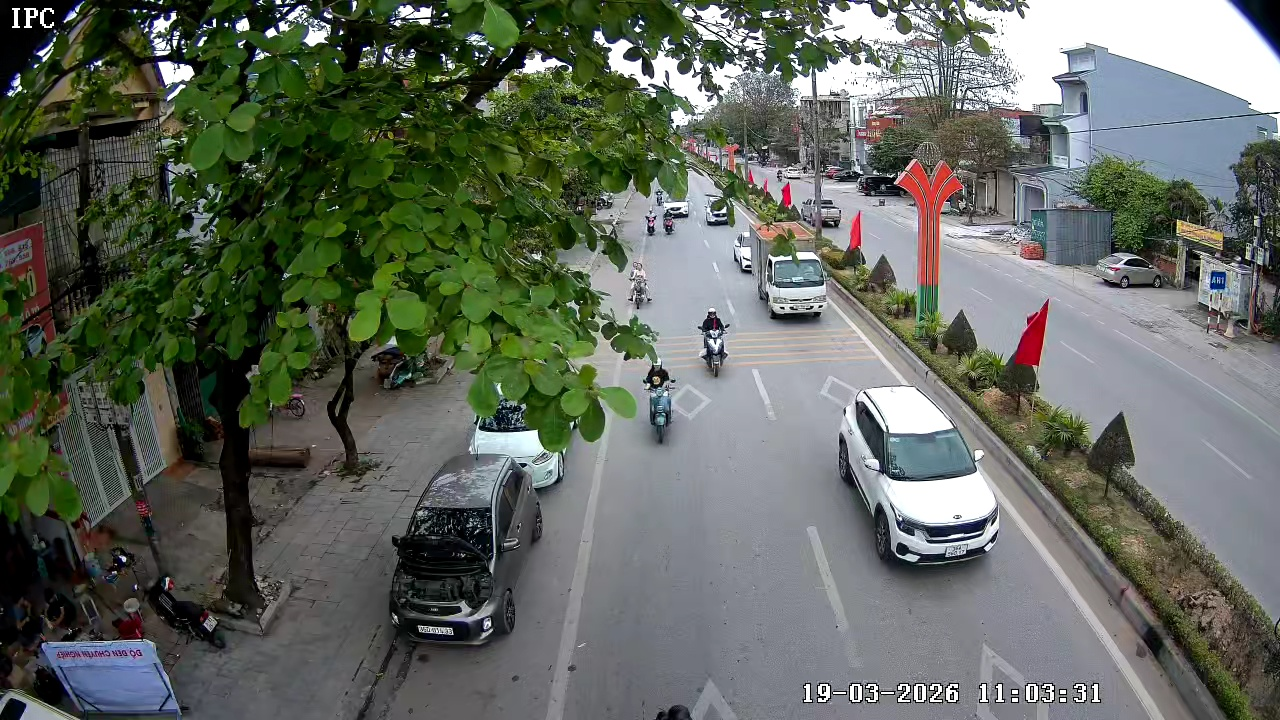car: (388, 452, 544, 646), (836, 385, 1000, 564), (469, 399, 569, 491), (703, 197, 736, 227)
motorbike: (641, 358, 678, 445), (696, 305, 732, 378), (627, 259, 653, 310), (661, 206, 677, 236), (642, 207, 656, 236)
truck: (746, 222, 843, 322)
